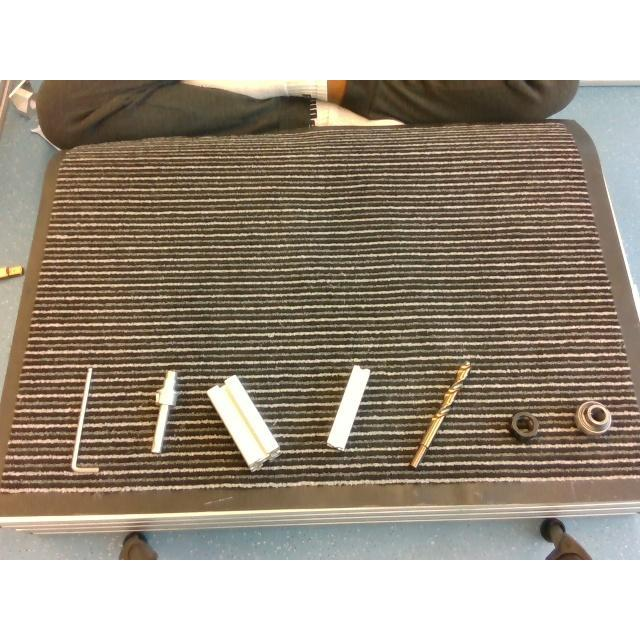Bearing2: (576, 400, 612, 434)
Drill: (408, 362, 470, 468)
F20_20_G: (327, 365, 369, 449)
M20: (509, 412, 539, 440)
S40_40_G: (206, 374, 278, 470)
